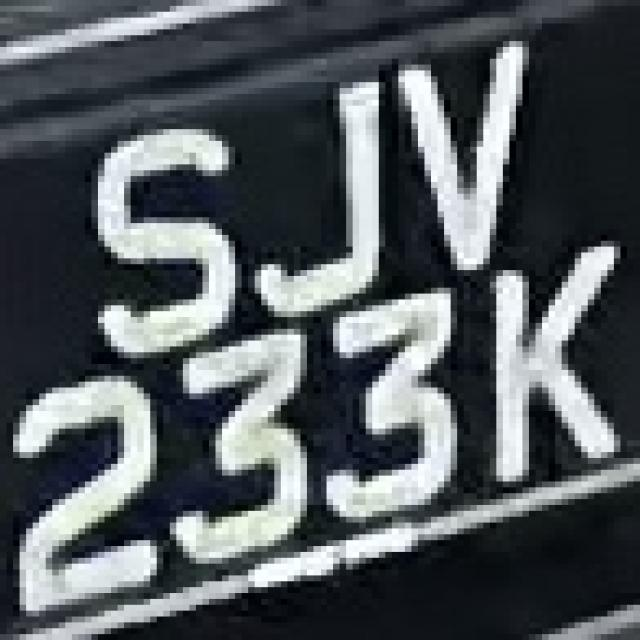2: (7, 364, 190, 628)
3: (157, 317, 333, 581), (294, 294, 470, 528)
J: (235, 76, 398, 317)
K: (464, 235, 627, 481)
S: (85, 106, 235, 376)
V: (392, 35, 555, 276)
